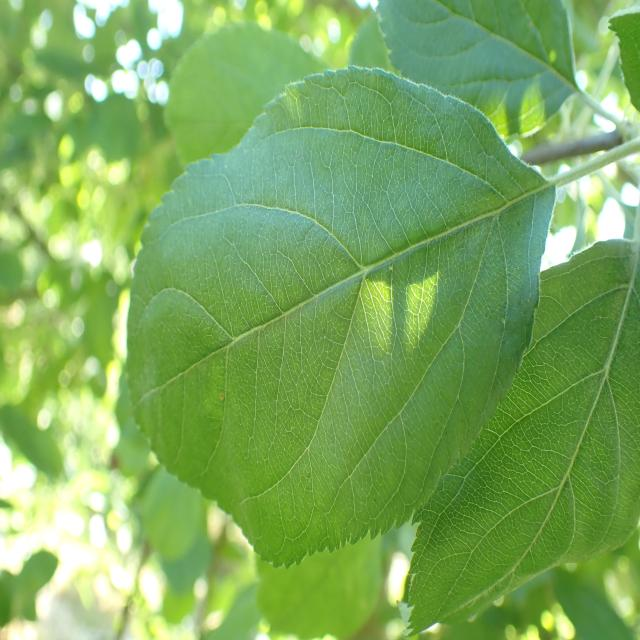healthy: (119, 65, 556, 569), (396, 238, 640, 638), (376, 0, 578, 142), (165, 20, 324, 168), (606, 2, 640, 120)
